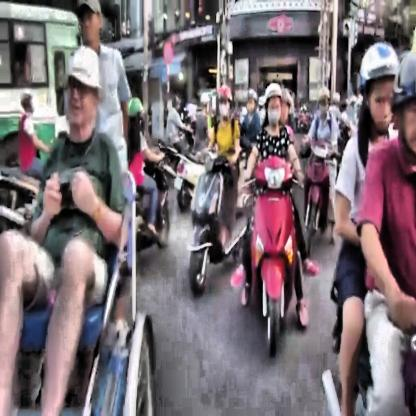wear: (357, 42, 399, 130), (262, 80, 283, 129), (217, 83, 235, 120), (244, 85, 259, 117)
